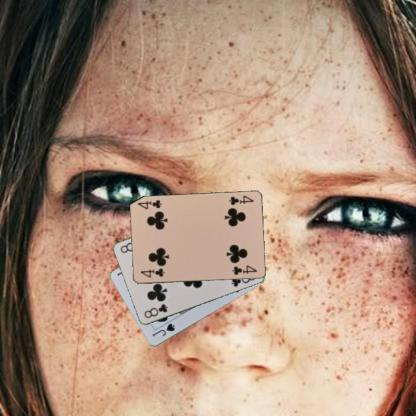4c: (137, 266, 166, 279), (226, 193, 255, 206)
8c: (142, 301, 168, 320)
Js: (150, 321, 176, 338)
